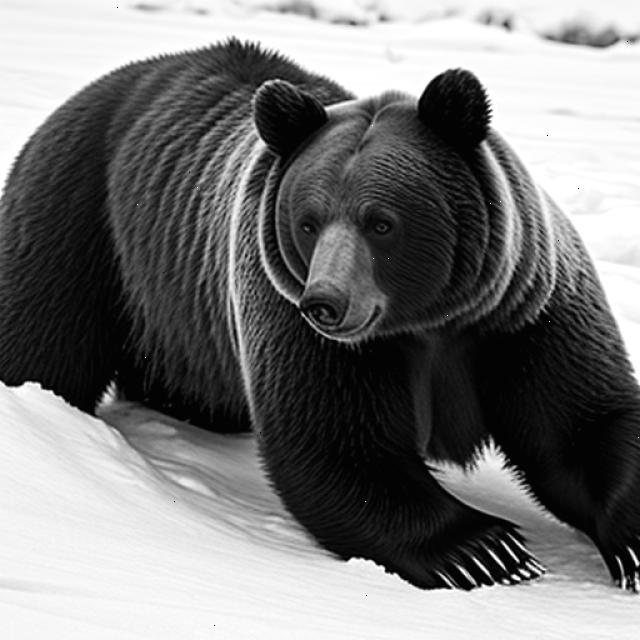bear: (225, 43, 520, 361)
